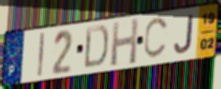2: (50, 28, 75, 76)
C: (142, 16, 171, 61)
D: (82, 24, 110, 70)
H: (110, 17, 140, 68)
I: (37, 31, 46, 78)
J: (173, 13, 195, 55)
